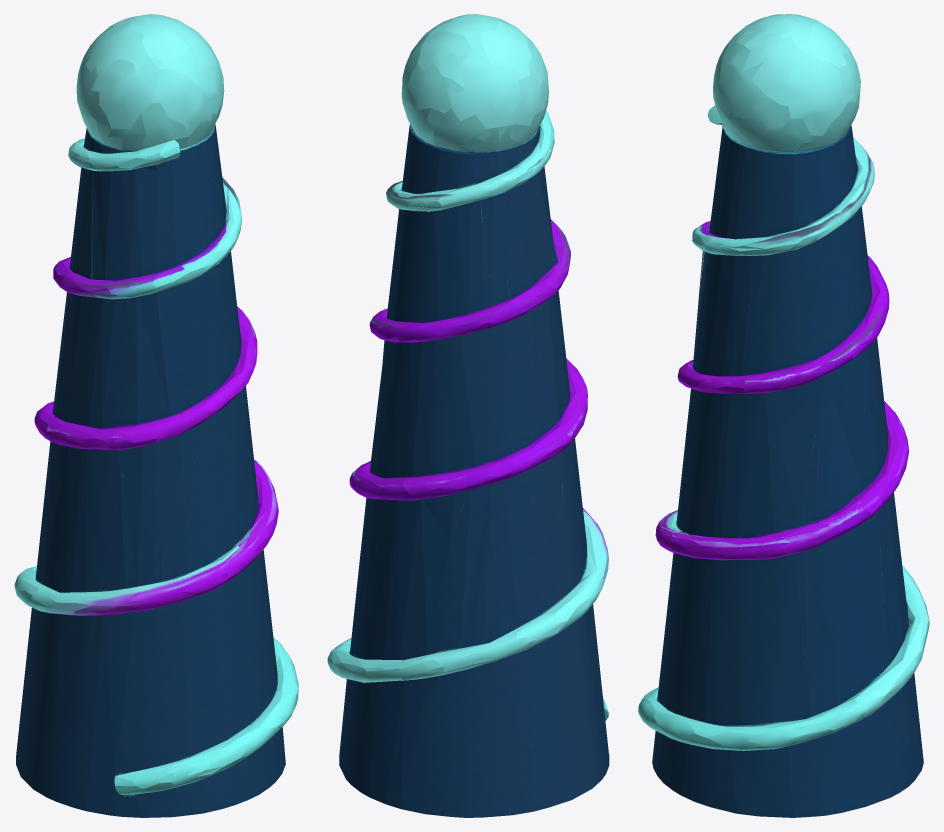
File: prop.glb
3 views of the same model, side by side, from view 1: azimuth 30°, elevation 25°; view 2: azimuth 150°, elevation 25°; view 3: azimuth 270°, elevation 25° (orthographic).
Bounding box in the file's own units: 0.6645 × 1.9 × 0.6797.
1 material, 1 textured.
